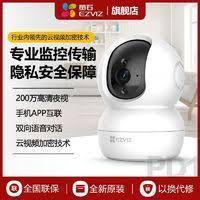maru: (91, 26, 192, 171)
